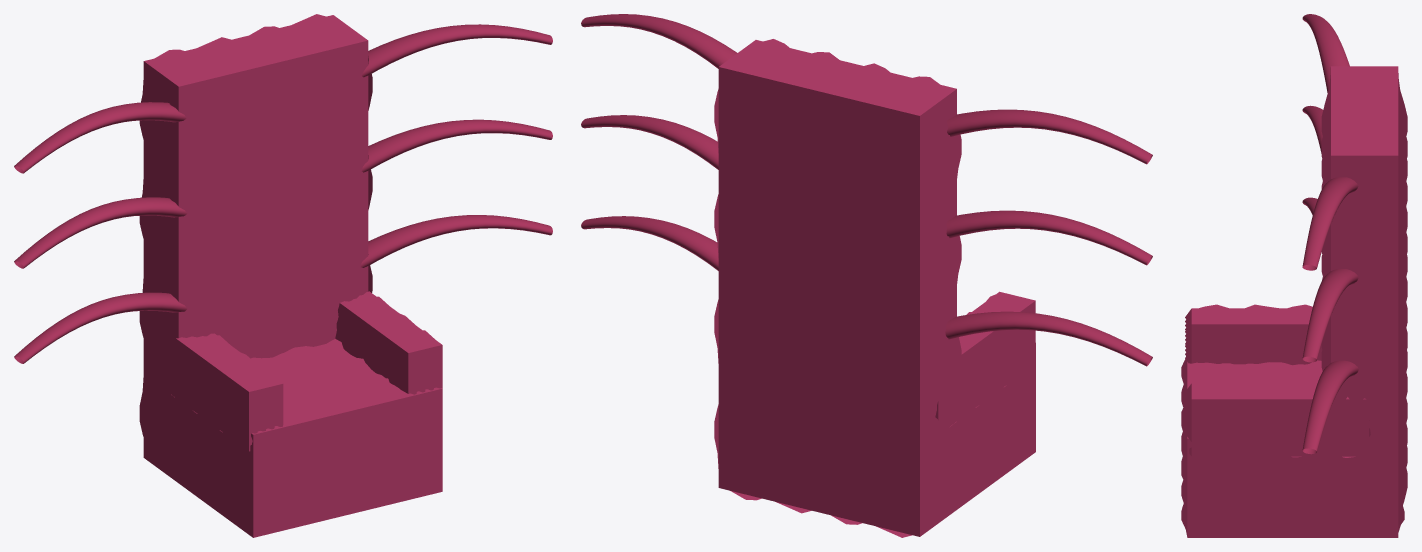
The model's file is inflatable_throne_5m.glb.
3 renders of one model, left to right at view 1: azimuth 30°, elevation 25°; view 2: azimuth 150°, elevation 25°; view 3: azimuth 270°, elevation 25°, orthographic. The views are drawn at different scales.
Parts seen in each view (by area): view 1: InflatableThrone, ThroneSixWings7m; view 2: InflatableThrone, ThroneSixWings7m; view 3: InflatableThrone, ThroneSixWings7m.
Boxes of the visible parts, x1,y1,x2,y2 form: InflatableThrone: (139,14,442,537); ThroneSixWings7m: (14,24,552,363); InflatableThrone: (714,39,1035,537); ThroneSixWings7m: (581,14,1152,366); InflatableThrone: (1181,66,1407,537); ThroneSixWings7m: (1302,14,1358,454).
Bounding box in the file's own units: 7.05 × 5.23 × 2.68.
